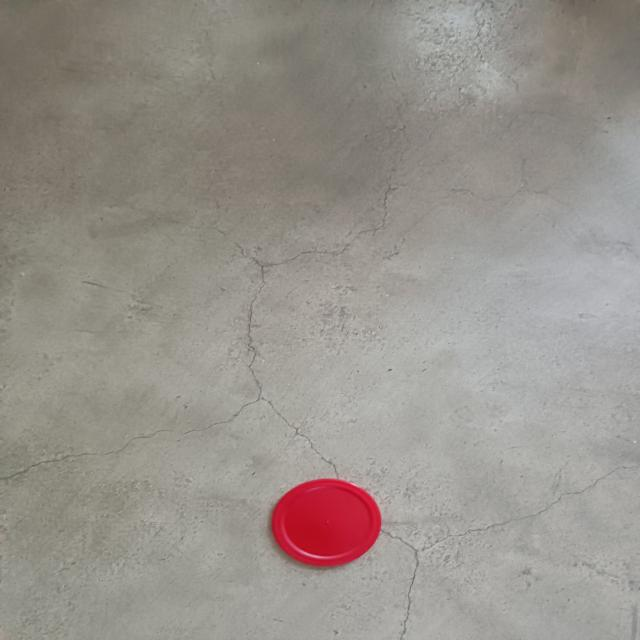chip: (270, 477, 384, 567)
